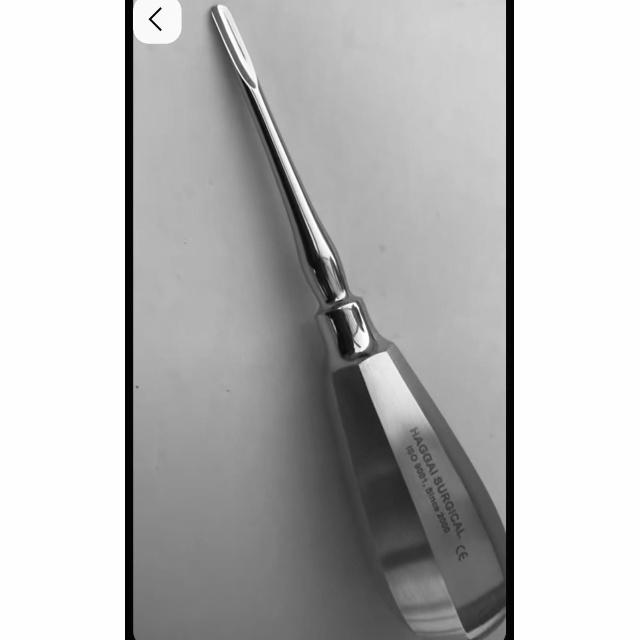botador: (205, 4, 509, 639)
